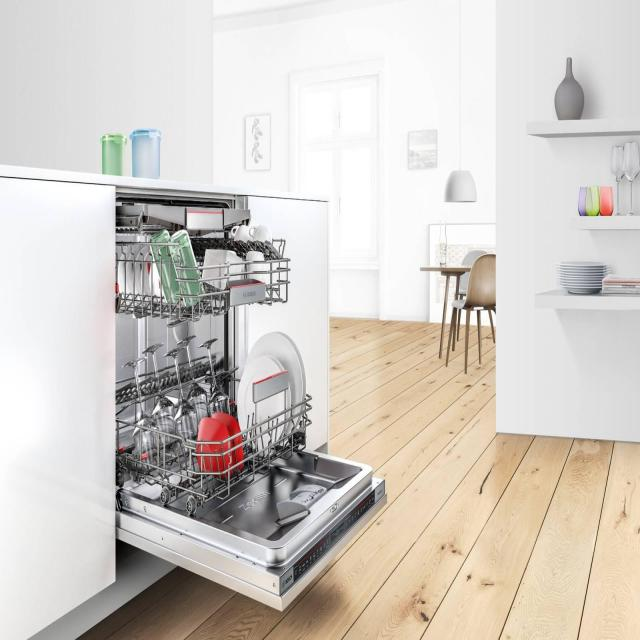dishwasher: (115, 184, 390, 611)
